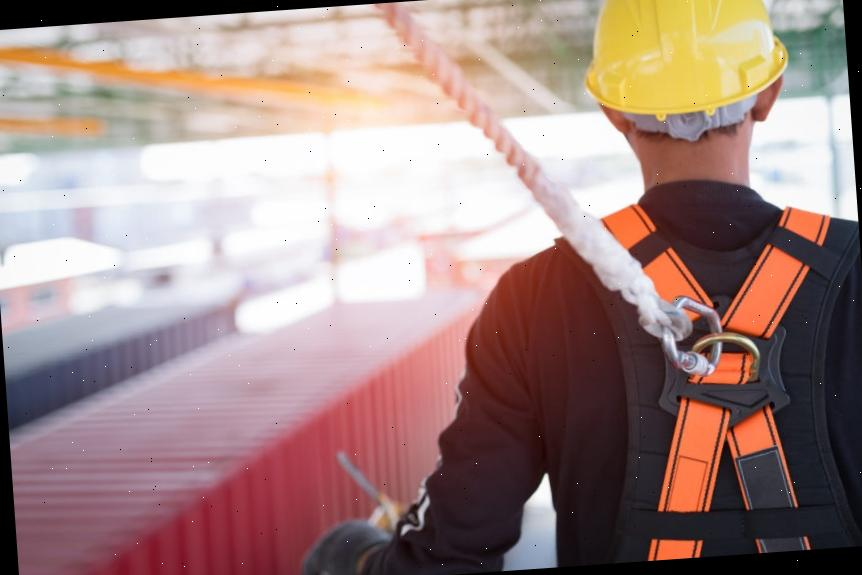helmet: (578, 0, 795, 134)
no_wear: (524, 198, 862, 567)
